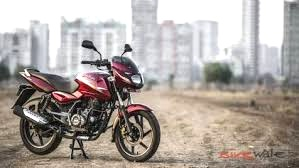Vehicle: (11, 39, 161, 163)
